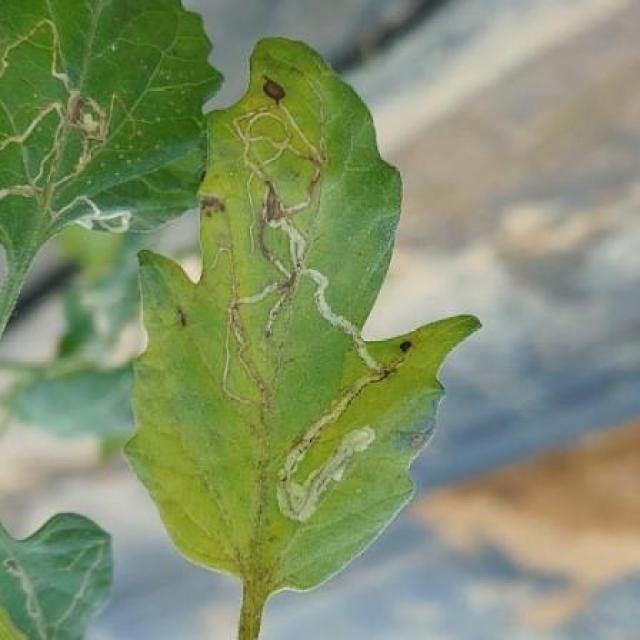Leaf Miner: (121, 37, 486, 592)
